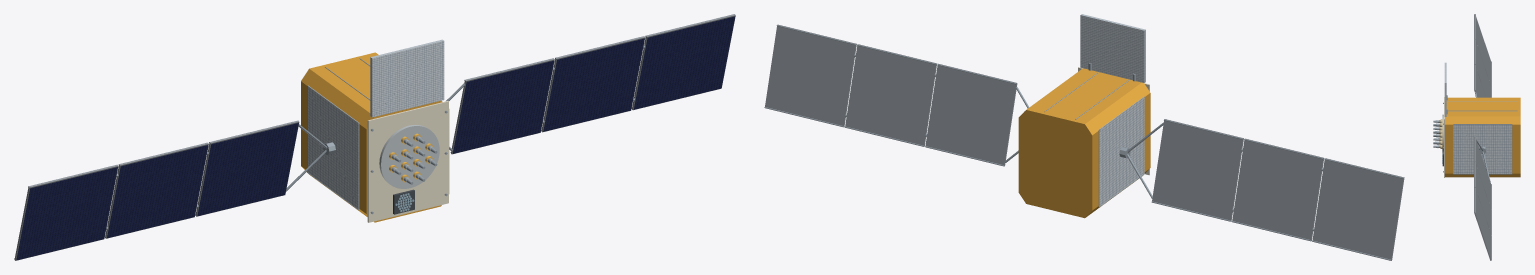
The model's file is beidou-3s-cast.glb.
3 renders of one model, left to right at view 1: azimuth 30°, elevation 25°; view 2: azimuth 150°, elevation 25°; view 3: azimuth 270°, elevation 25°, orthographic. The views are drawn at different scales.
Parts seen in each view (by area): view 1: Solar cell strings (×6), Earth-facing equipment deck, Equipment bus, Fold-out phased-array antenna, Optical solar reflector tiles, Solar leaf backsheet (×6), Navigation antenna ground plane; view 2: Solar leaf backsheet (×6), Equipment bus, Fold-out phased-array antenna, Optical solar reflector tiles; view 3: Equipment bus, Optical solar reflector tiles, Solar leaf backsheet (×6), Blanket taped seam (×2), Fold-out phased-array antenna, Earth-facing equipment deck, Navigation antenna ground plane.
Part boxes in pixels (box(x1,y1,x2,y2)): Solar cell strings (×6): box(16, 16, 735, 260); Earth-facing equipment deck: box(367, 101, 448, 222); Equipment bus: box(301, 52, 449, 222); Fold-out phased-array antenna: box(370, 39, 444, 117); Optical solar reflector tiles: box(307, 85, 359, 209); Solar leaf backsheet (×6): box(14, 14, 735, 260); Navigation antenna ground plane: box(379, 125, 439, 188); Solar leaf backsheet (×6): box(765, 24, 1404, 260); Equipment bus: box(1018, 68, 1150, 218); Fold-out phased-array antenna: box(1080, 14, 1145, 82); Optical solar reflector tiles: box(1098, 97, 1144, 206); Equipment bus: box(1445, 97, 1520, 177); Optical solar reflector tiles: box(1453, 124, 1512, 174); Solar leaf backsheet (×6): box(1474, 14, 1491, 260); Blanket taped seam (×2): box(1448, 101, 1517, 111); Fold-out phased-array antenna: box(1444, 62, 1446, 116); Earth-facing equipment deck: box(1444, 97, 1444, 177); Navigation antenna ground plane: box(1442, 114, 1443, 153).
Bounding box in the file's own units: 11.5 × 2.58 × 2.13.
10 materials, 2 textured.
